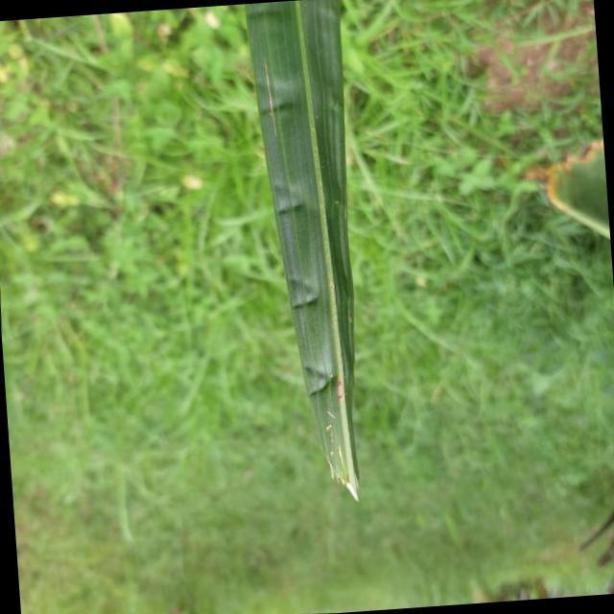Boron: (235, 0, 365, 505)
